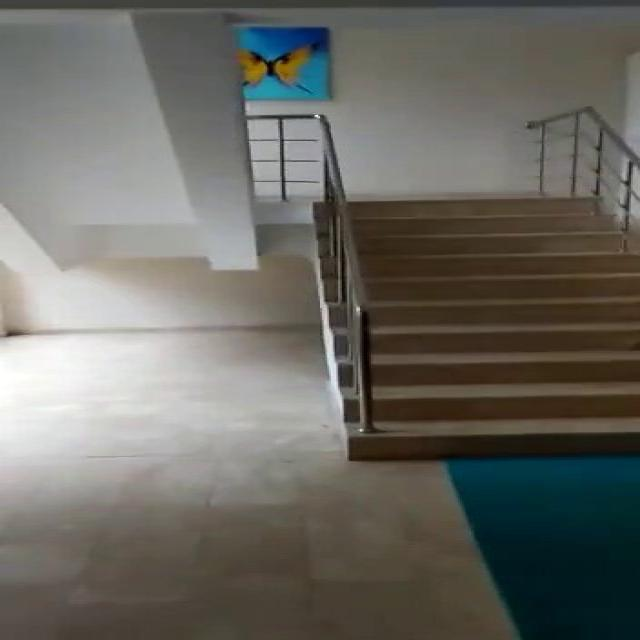stair: (284, 181, 640, 473)
